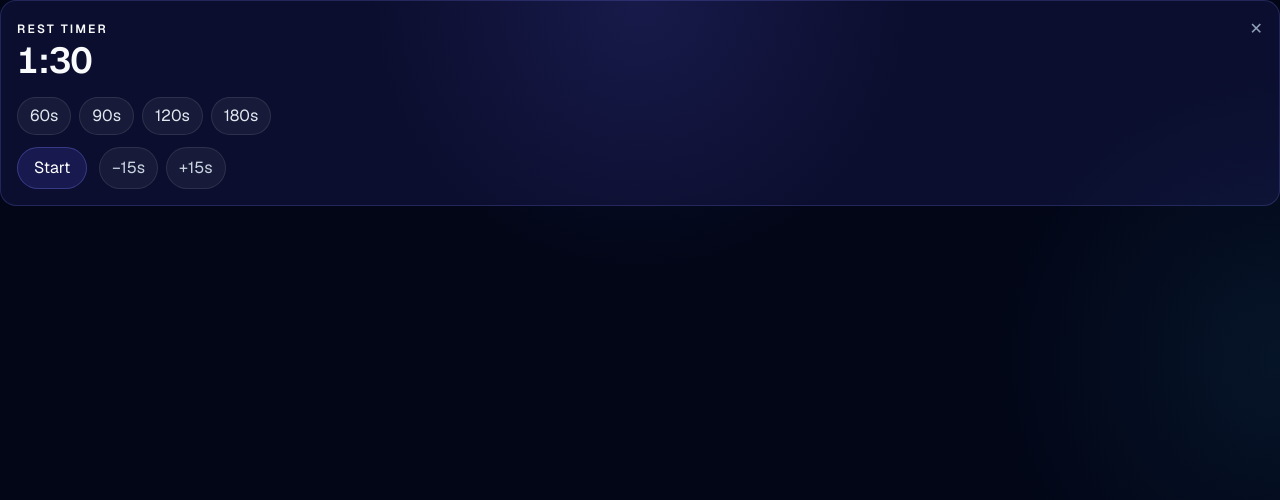
Test: RestTimer › start / stop › shows Stop button after clicking Start
The image size is (1280, 500).
Click the button "Start" at (52, 168), box left=17, top=147, right=87, bottom=189
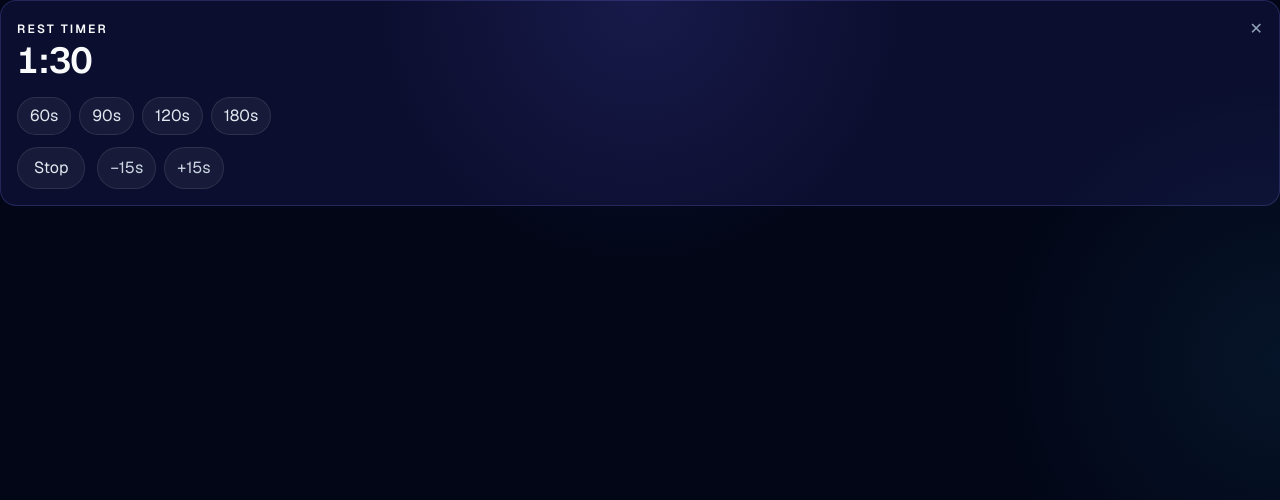
Expected: the button "Stop" is shown, left=17, top=147, right=85, bottom=189
